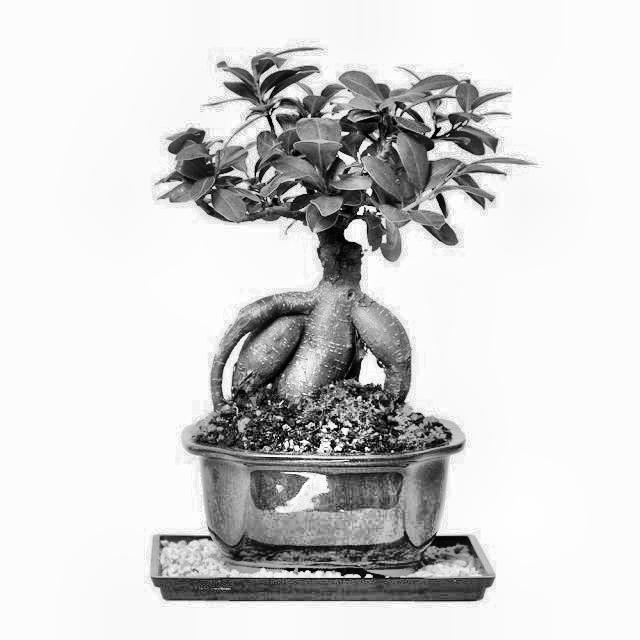plants: (108, 43, 532, 436)
